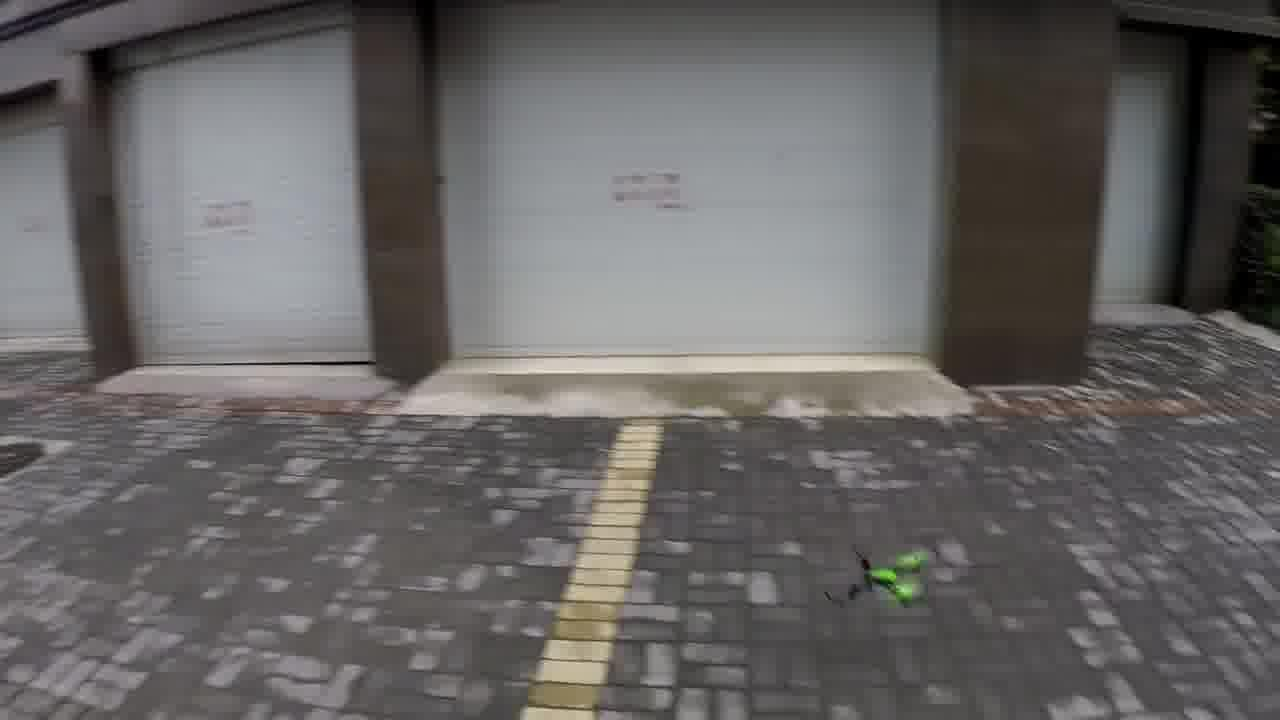drone: (802, 530, 953, 620)
